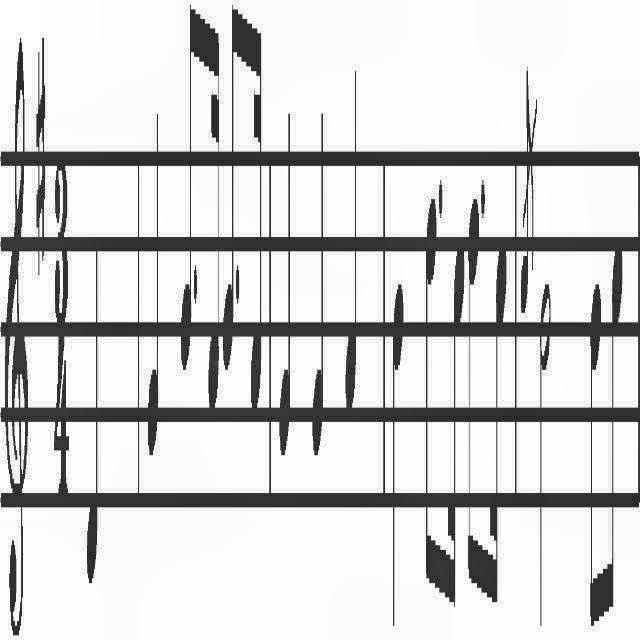Bass-clef: (4, 22, 30, 640)
Diez: (36, 24, 46, 288)
Eighth-note: (604, 230, 624, 636), (424, 195, 438, 600), (465, 200, 479, 588), (222, 2, 236, 386), (178, 1, 192, 380), (588, 272, 602, 636)
Half-note: (538, 269, 550, 635)
Quarter-note: (344, 44, 358, 432), (145, 92, 159, 474), (279, 98, 293, 474), (311, 92, 325, 468), (391, 264, 405, 640), (86, 221, 100, 585)
Sixteenth-note: (488, 233, 508, 619), (447, 234, 465, 610), (248, 26, 264, 418)
